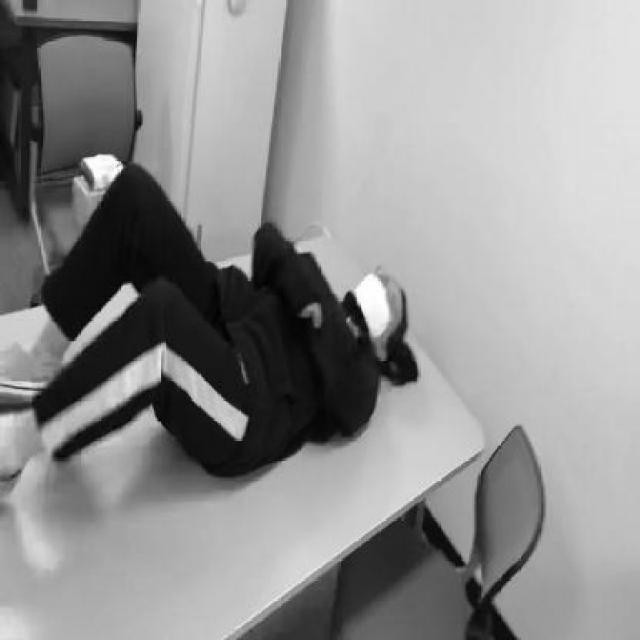person: (2, 156, 410, 482)
